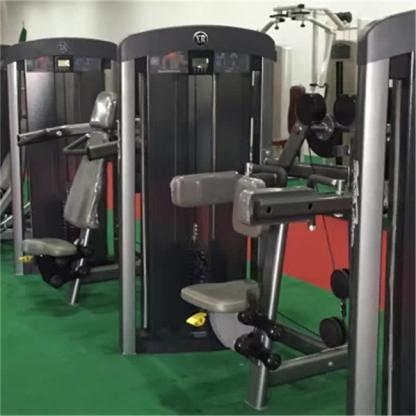lateral raises machine: (171, 130, 350, 409)
shoulder press machine: (16, 89, 119, 303)
